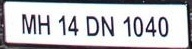character: (21, 12, 36, 35), (100, 15, 115, 36), (85, 15, 99, 36), (37, 13, 50, 35), (67, 15, 79, 36), (132, 15, 143, 37), (145, 16, 156, 37), (157, 16, 168, 37), (122, 15, 132, 37), (58, 14, 66, 36)
